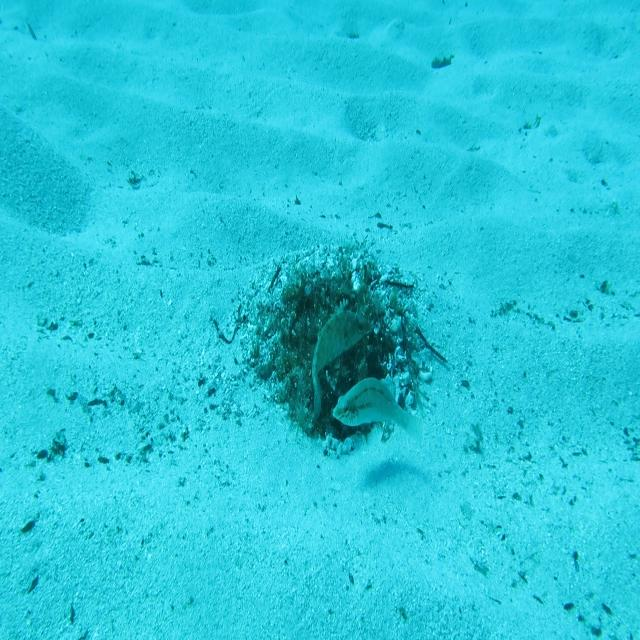BEND: (309, 297, 372, 427)
core_nest: (308, 293, 349, 337)
female: (332, 374, 426, 446)
nest: (229, 222, 444, 476)
vegetation: (431, 53, 453, 72)
